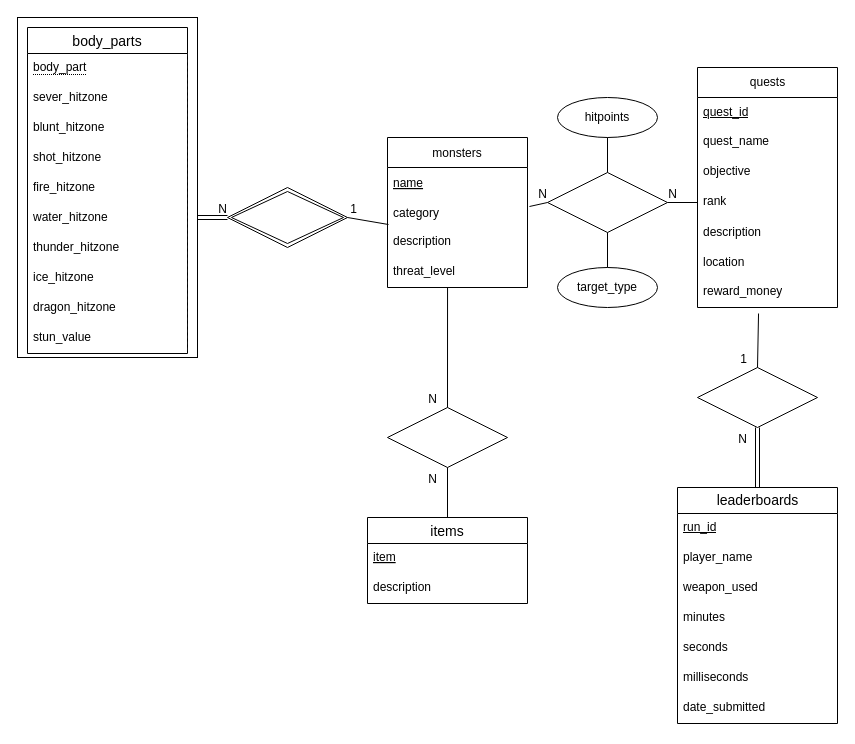
This 855x744 diagram has some shape labels left out. Here are the shapes that lost their labels. From the top down, the centre of each, then its label:
At point (607, 202): "quest_monsters".
At point (447, 437): "loot_table".
